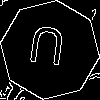U: (25, 25, 68, 76)
